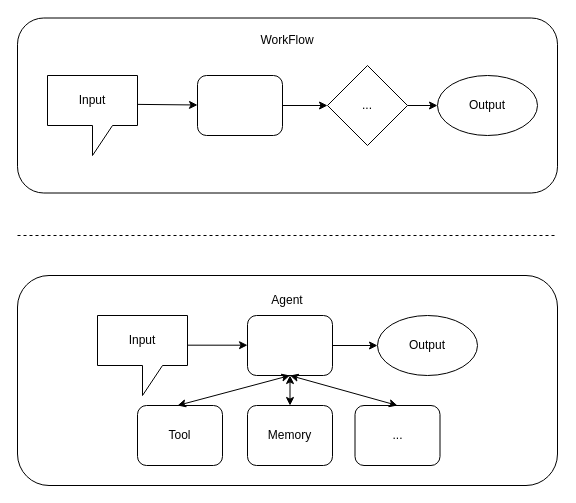
Image size: 576x503. Some labels were removed from this diagram. Here are the shapes that lost their labels. From the top down, the centre of each, then its label:
At [239,105]: "Step1".
At [289,345]: "LLM".
